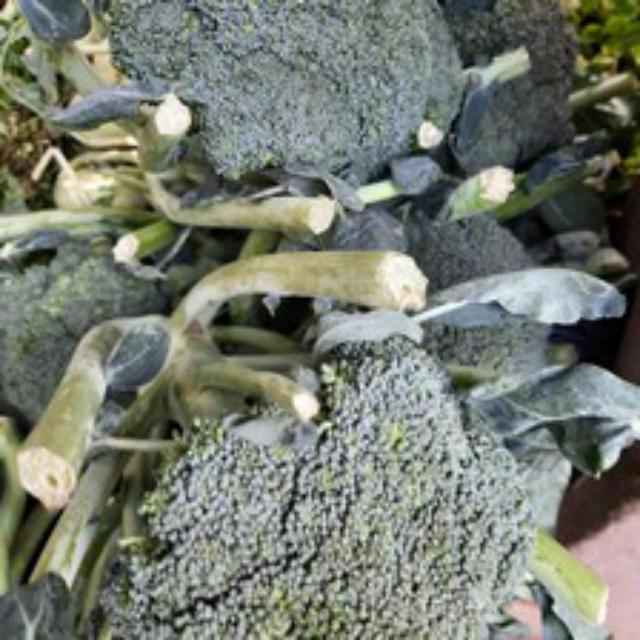broccoli: (106, 331, 548, 637)
